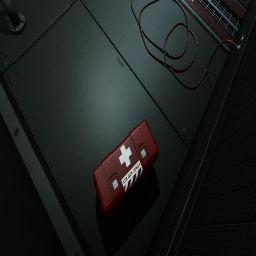FirstAidBox ,: (92, 120, 159, 217)
